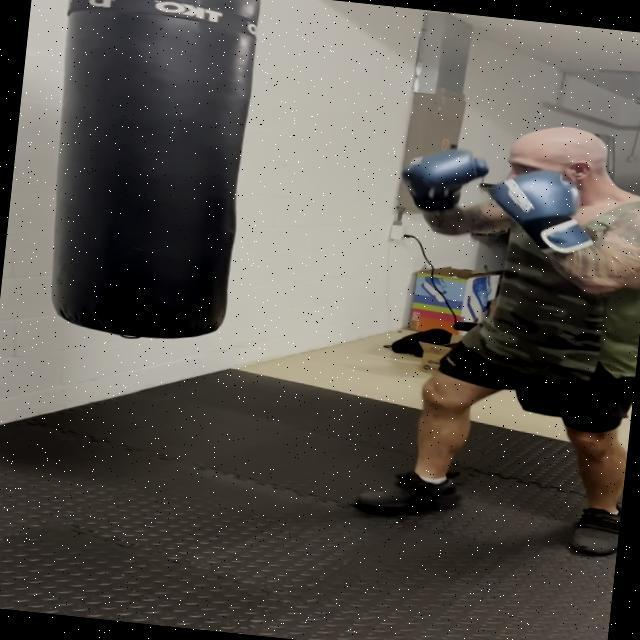bag: (44, 0, 271, 345)
no punch: (383, 92, 640, 305)
